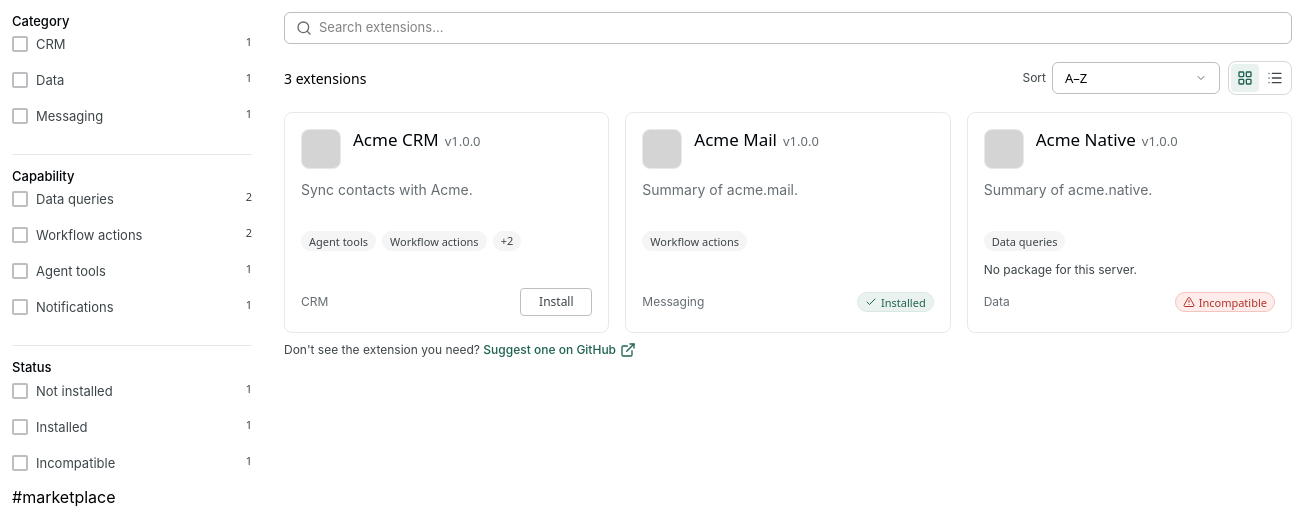
Test case: the sort offers A–Z and Recently added only
Click the dropdown named "Sort": (1136, 78) top-left (1052, 62), bottom-right (1220, 94)
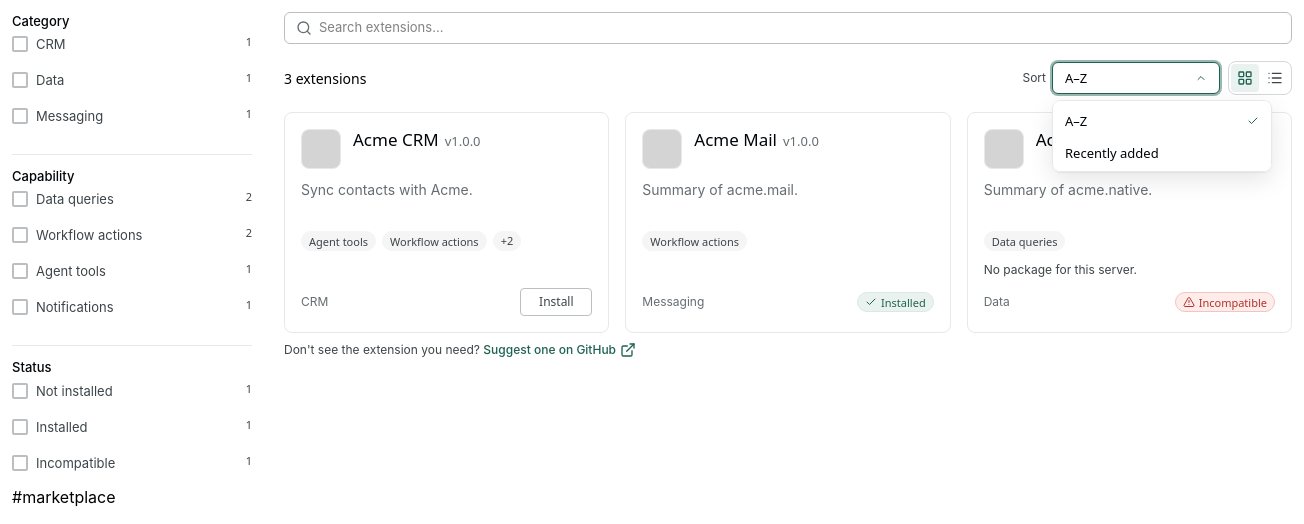
Check: the options read "A–Z", "Recently added", in this order, box top-left (1057, 105), bottom-right (1267, 137); top-left (1057, 137), bottom-right (1267, 169)
